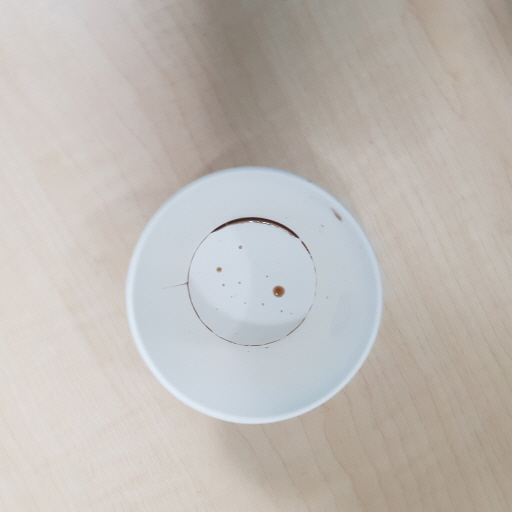Paper_1: (127, 160, 383, 427)
